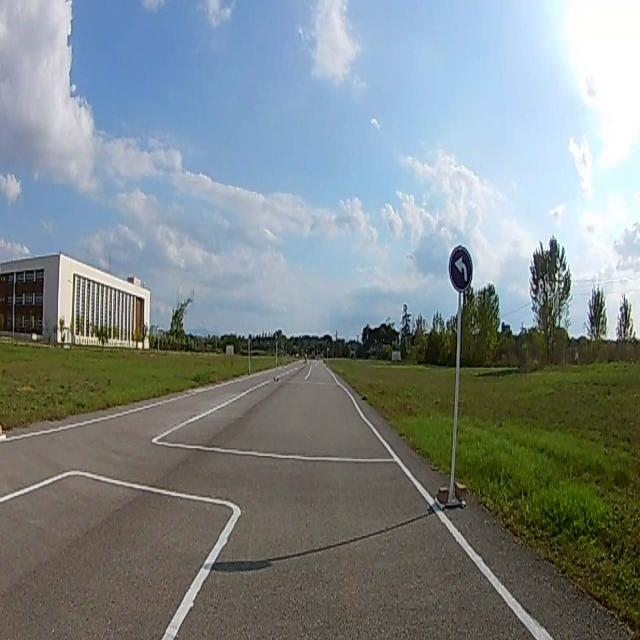sol: (449, 244, 473, 290)
